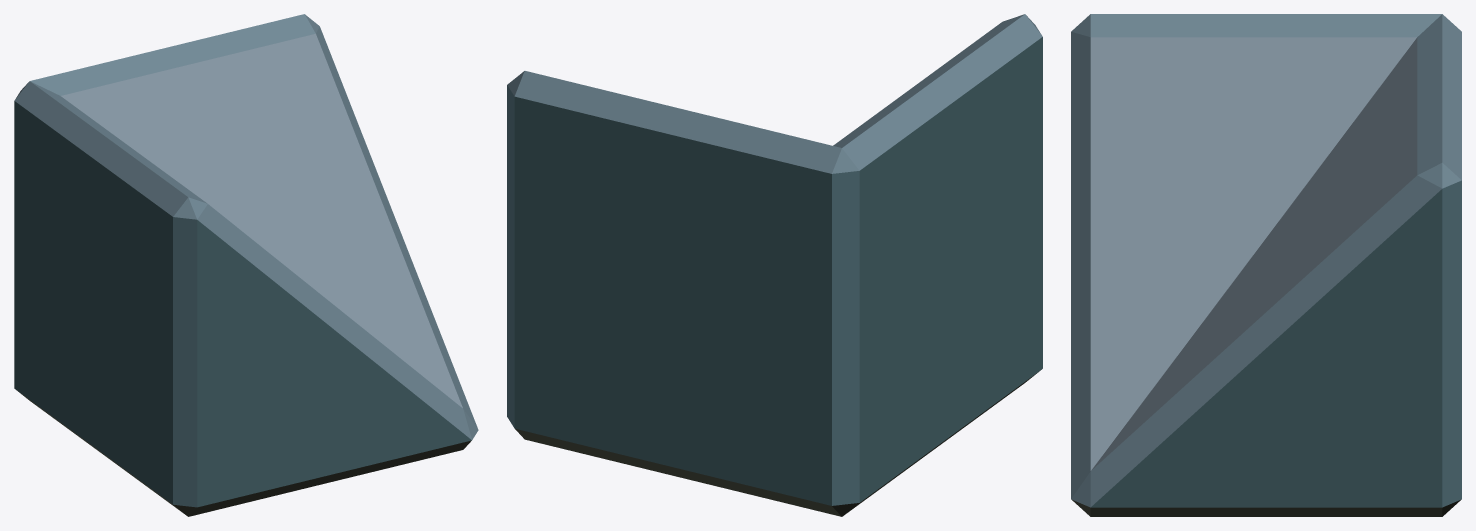
The model's file is m_kub_diagonalGrey_cornerIn.FBX.
The picture shows the model from 3 angles, left to right: view 1: azimuth 30°, elevation 25°; view 2: azimuth 150°, elevation 25°; view 3: azimuth 270°, elevation 25°; orthographic projection. The views are drawn at different scales.
Parts seen in each view (by area): view 1: m_kub_diagonalGrey_cornerIn; view 2: m_kub_diagonalGrey_cornerIn; view 3: m_kub_diagonalGrey_cornerIn.
Part boxes in pixels (x1,y1,x2,y2): m_kub_diagonalGrey_cornerIn: (14,14,478,516); m_kub_diagonalGrey_cornerIn: (507,14,1042,516); m_kub_diagonalGrey_cornerIn: (1071,14,1461,516).
Bounding box in the file's own units: 2 × 2 × 2.
